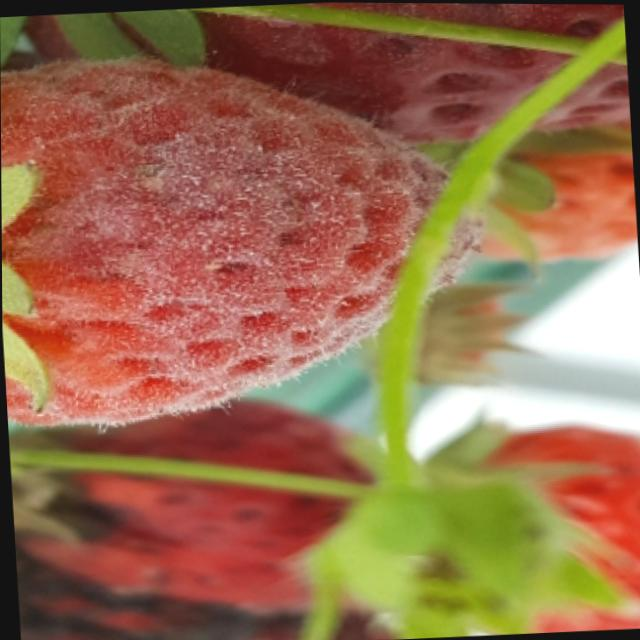Powdery Mildew Fruit: (0, 50, 489, 427), (22, 2, 631, 144)
